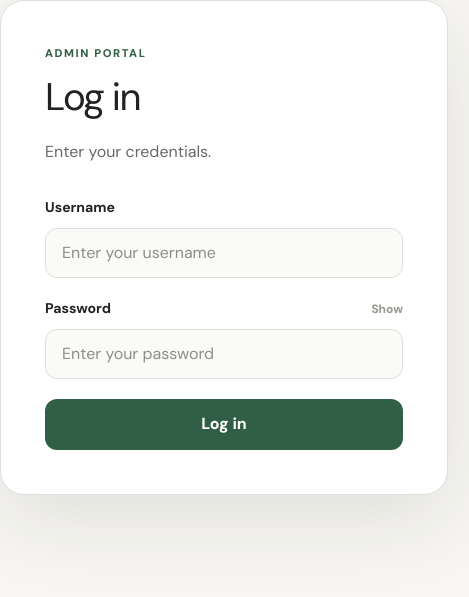
Test: LoginFormComponent › validates both required fields before submission
Click the submit button at (224, 424), box x1=45 y1=399 x2=403 y2=450
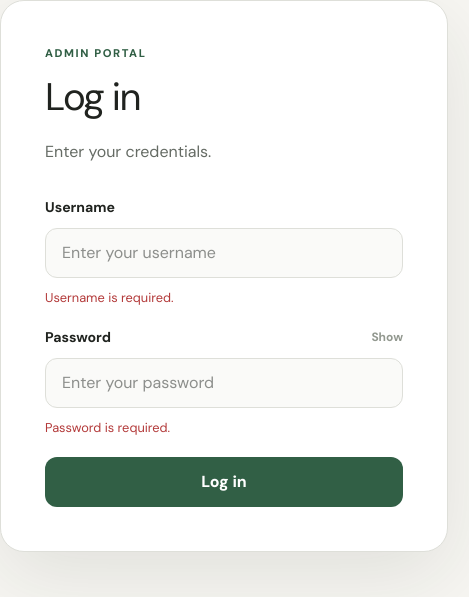
Expected: the text "Username is required." is shown, x1=45 y1=289 x2=174 y2=306
Expected: the text "Password is required." is shown, x1=45 y1=418 x2=170 y2=436
